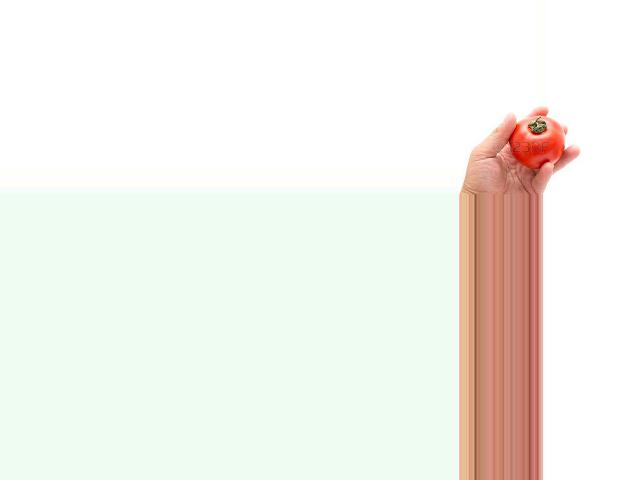tomato: (509, 116, 565, 168)
